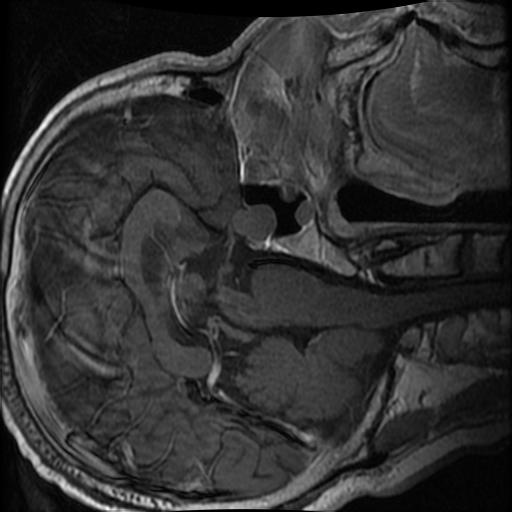pituitary tumour: (231, 203, 277, 245)
